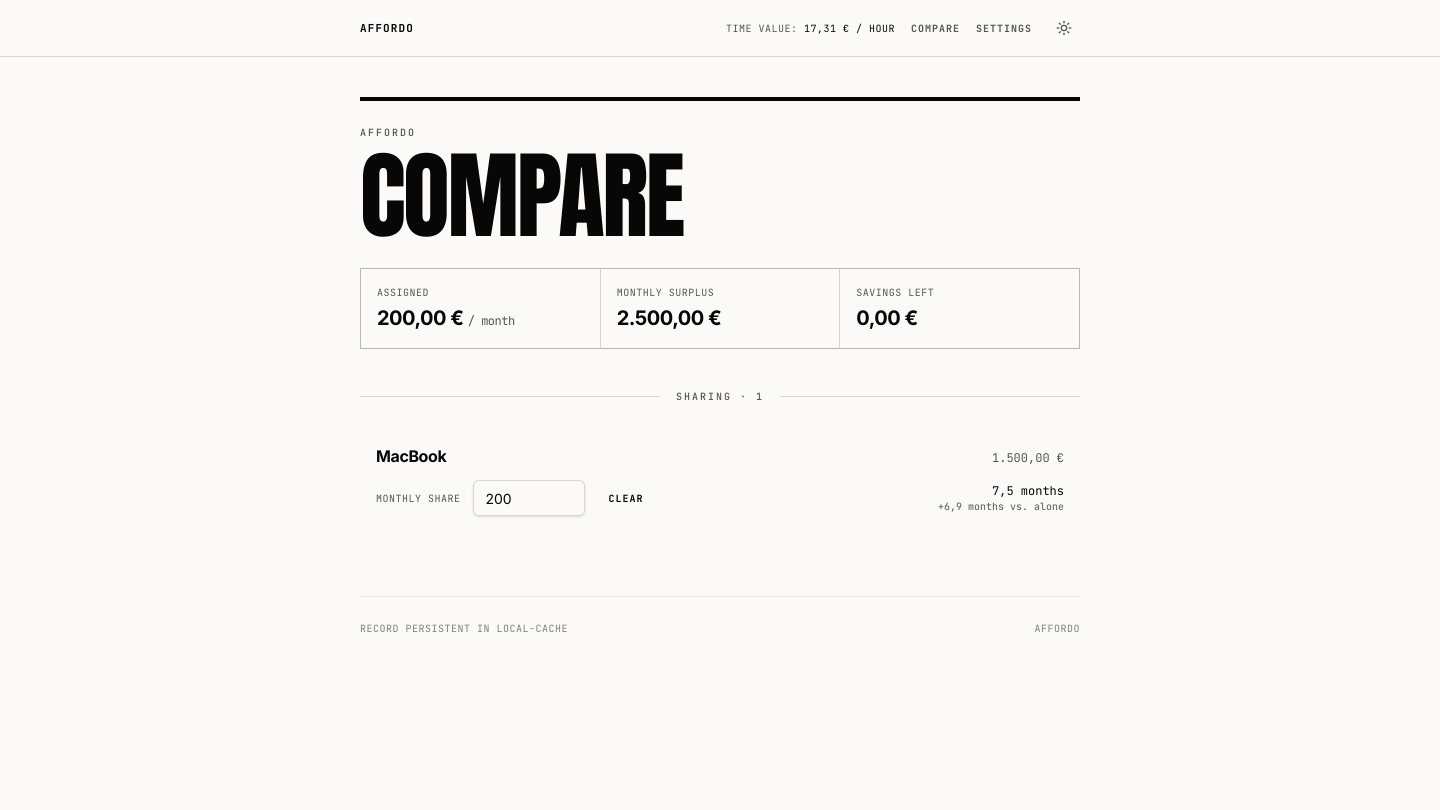
assigning a Share › lets the user clear the field back to nothing without fighting them
Clear the field labelled "Monthly share" at (528,498), box [472,480,584,516]
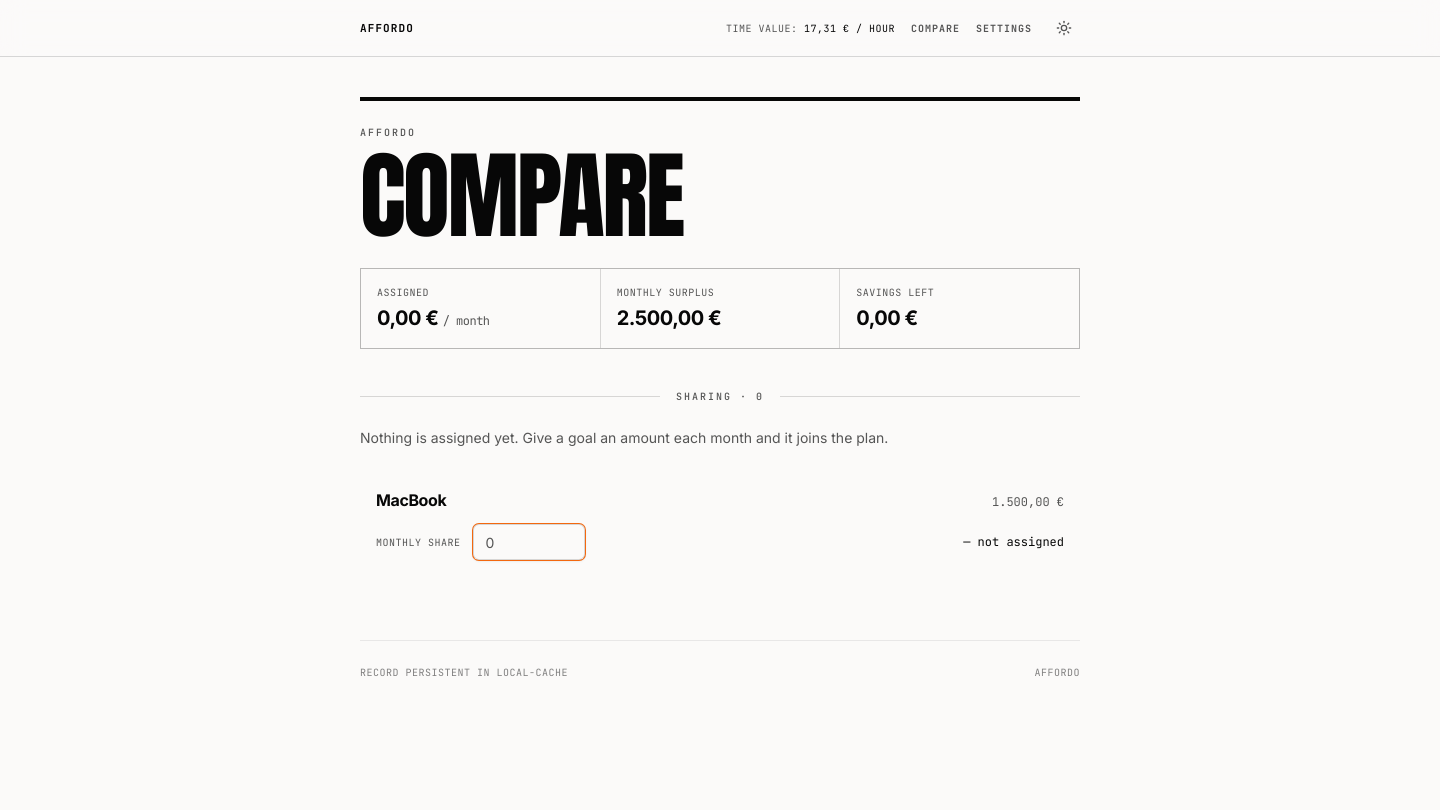
Expected: the text with test id "compare-months" reads "— not assigned", [963,534,1064,550]
